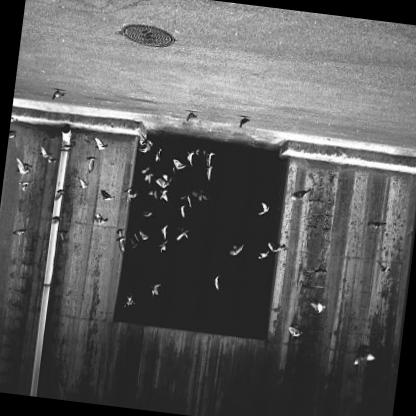manholes: (103, 1, 184, 65)
